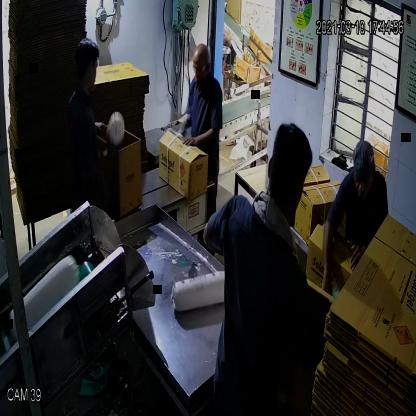no_glove: (322, 216, 337, 306), (183, 122, 224, 152)
